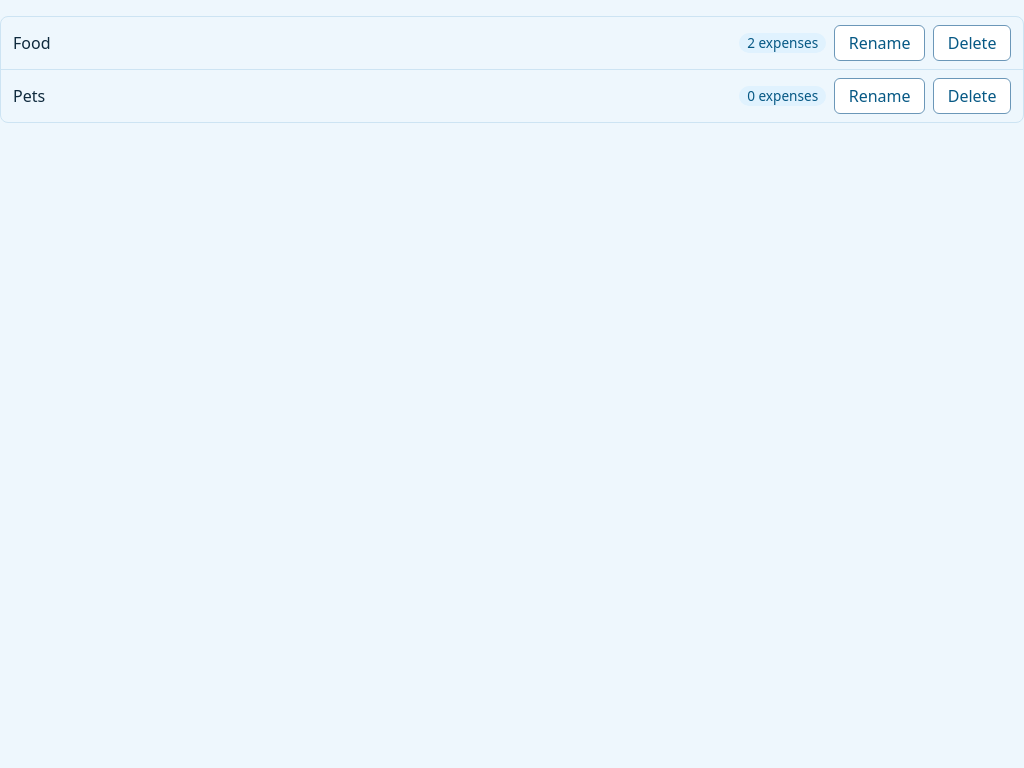
it: deletes an unused category after confirmation
Step 1. Click the button with aria-label "Delete Pets" → (972, 96), box [933,78,1011,114]
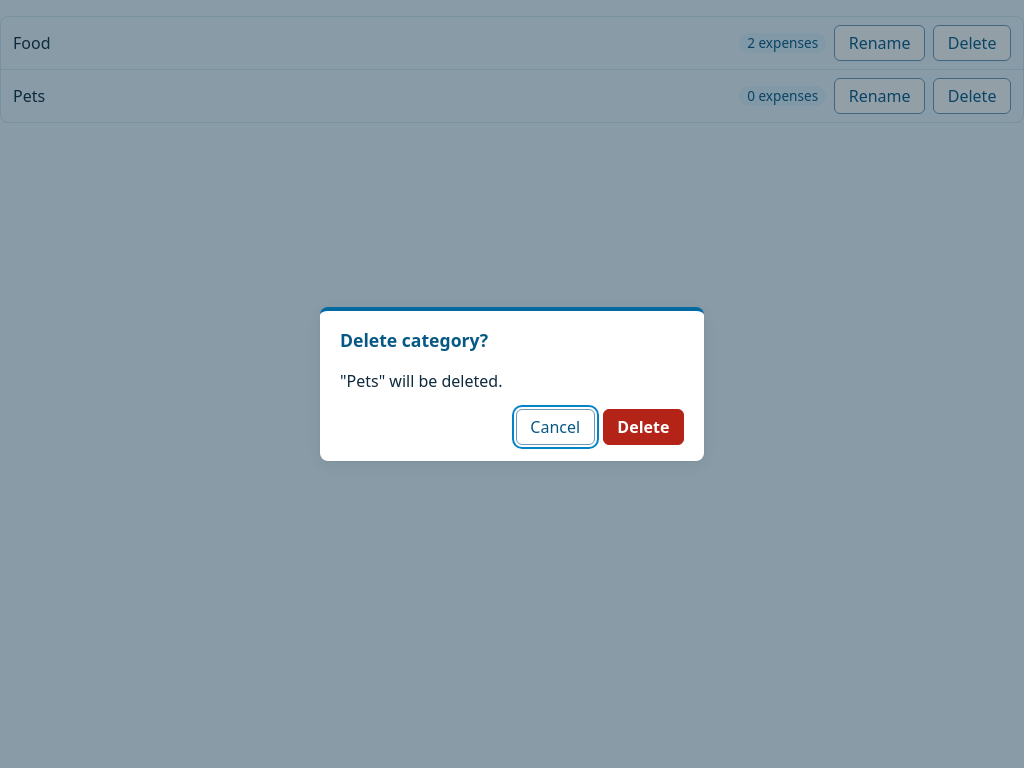
Result: the dialog "Delete category?" shows "\"Pets\" will be deleted." at [340,370,502,392]
Step 2. Click the button "Delete" → (643, 427), box [603,409,684,445]
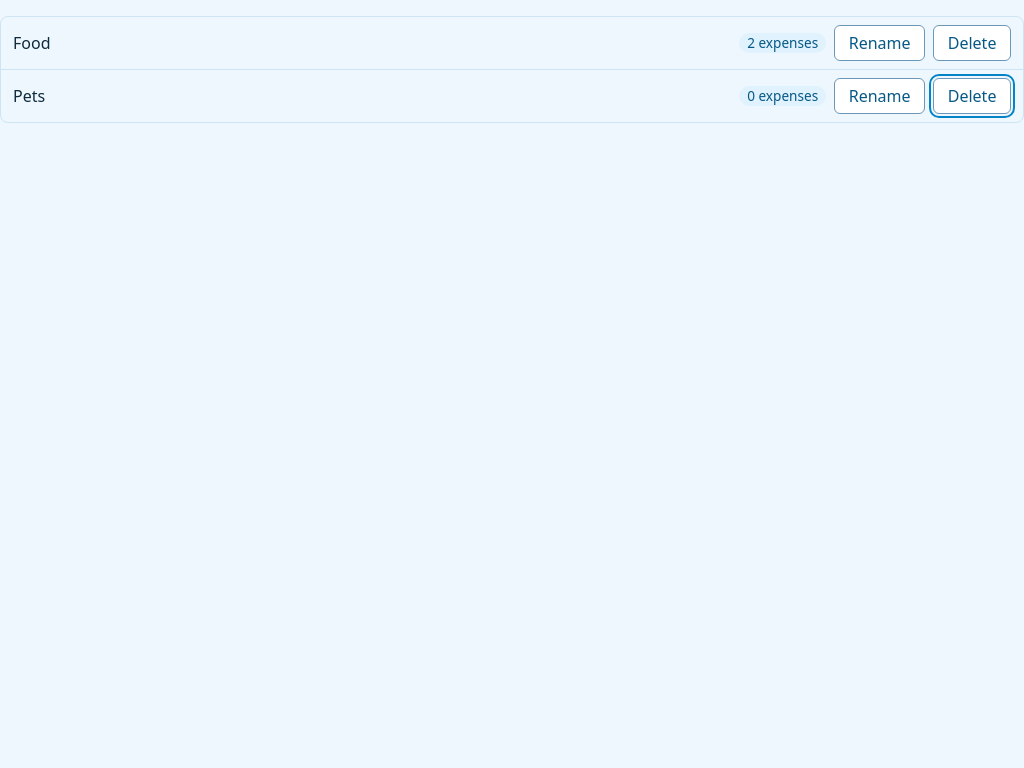
Result: the dialog is gone
